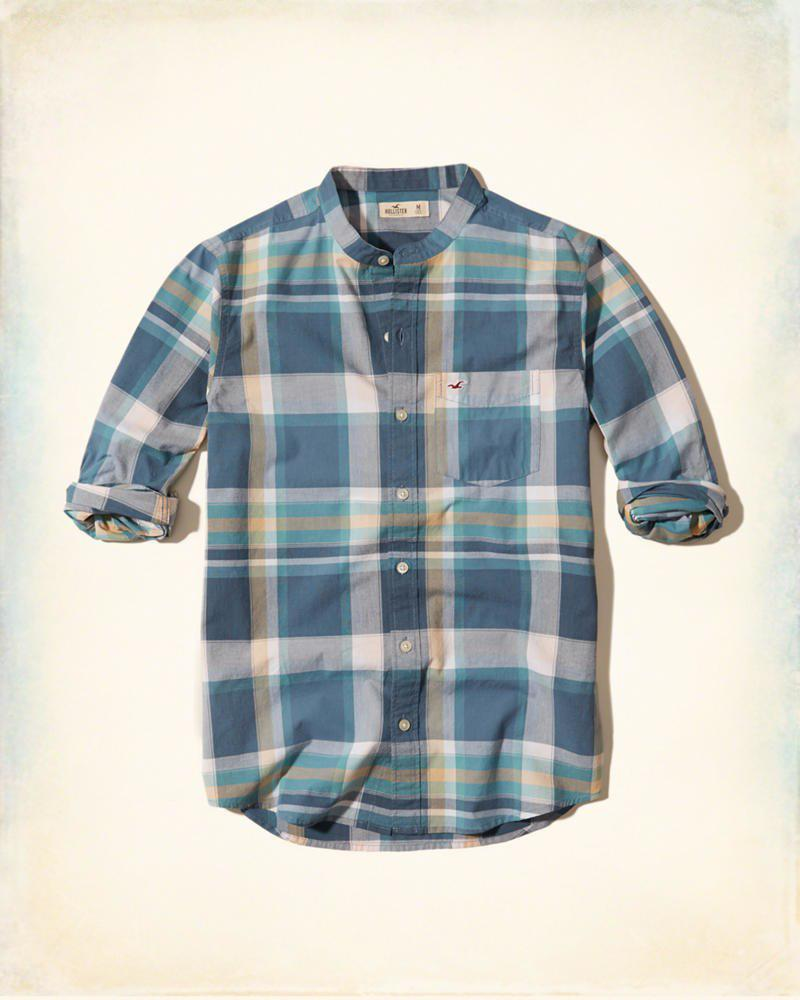teeshirt: (59, 162, 733, 862)
